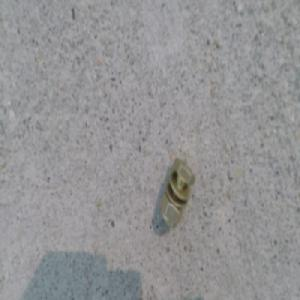BoltNutSet: (161, 154, 199, 226)
